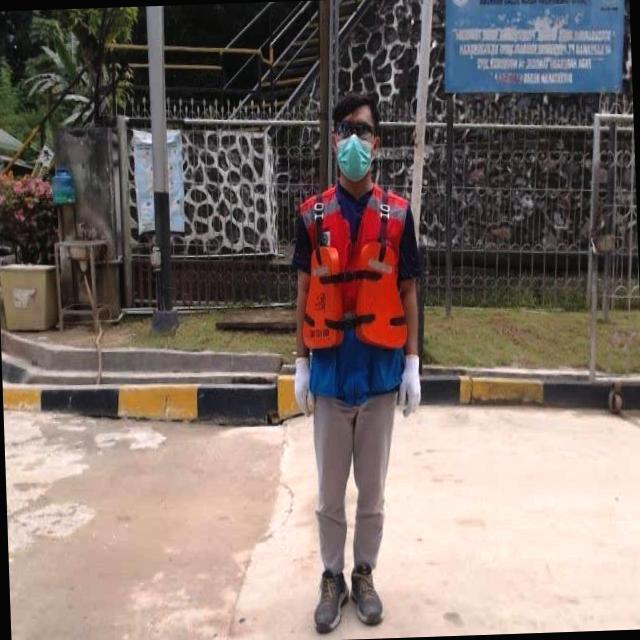vest: (299, 180, 416, 402)
